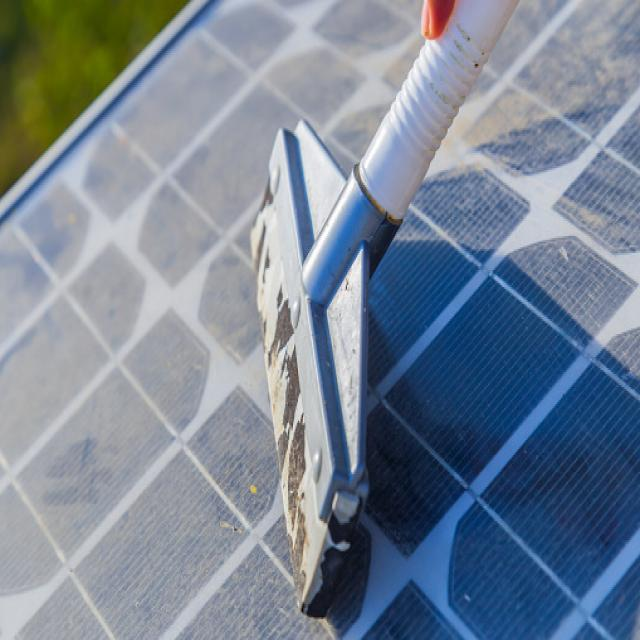faulty: (8, 45, 637, 640)
